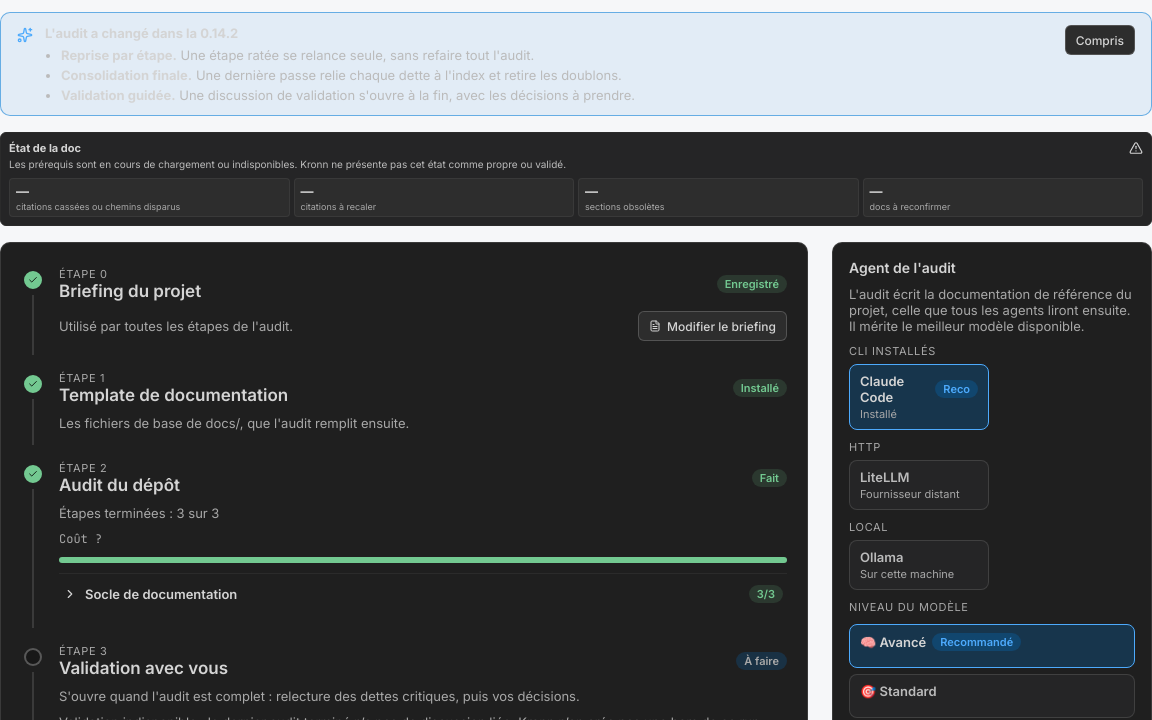
Test: AuditTimeline › tells unknown tokens from zero and names the run a carried step came from (KT-1021)
What coordinates should you click on to do the following:
click the button with class "audit-tl-group-head"
I would click on:
 (161, 594)
Its box is [59,574,787,614].
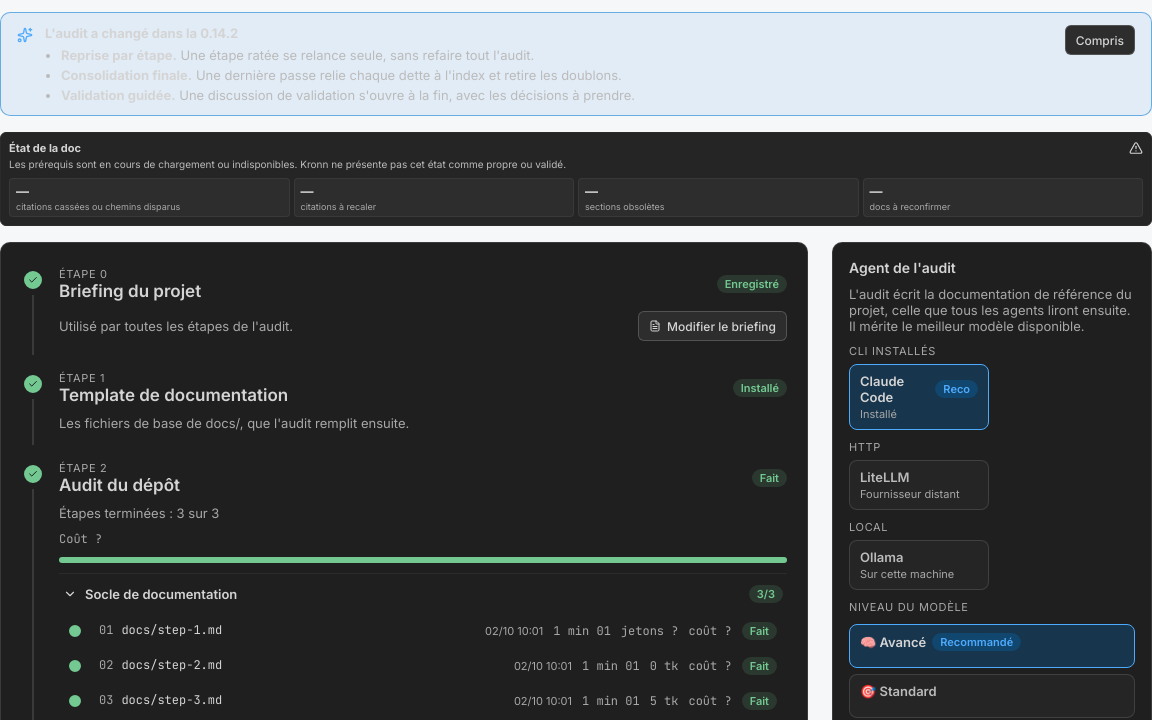
Now the text with test id "audit-timeline-step-tokens-1" shows "?", box [621,623,678,639]
Now the text with test id "audit-timeline-step-tokens-2" reads "0 tk", box [650,658,678,674]
Now the text with test id "audit-timeline-step-tokens-3" reads "5 tk", box [650,693,678,709]
